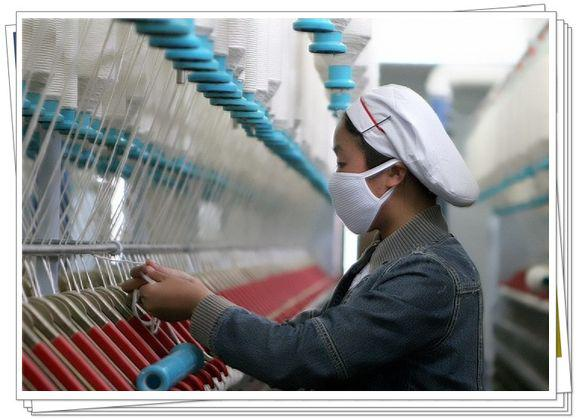OK: (328, 144, 402, 238)
